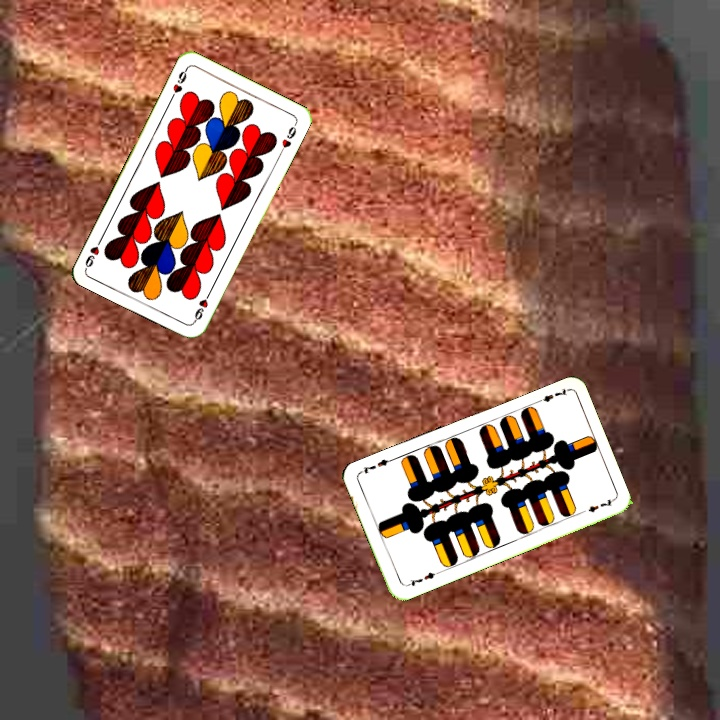E7: (402, 568, 441, 589), (531, 385, 570, 406)
H9: (189, 287, 214, 325), (167, 64, 190, 102)
